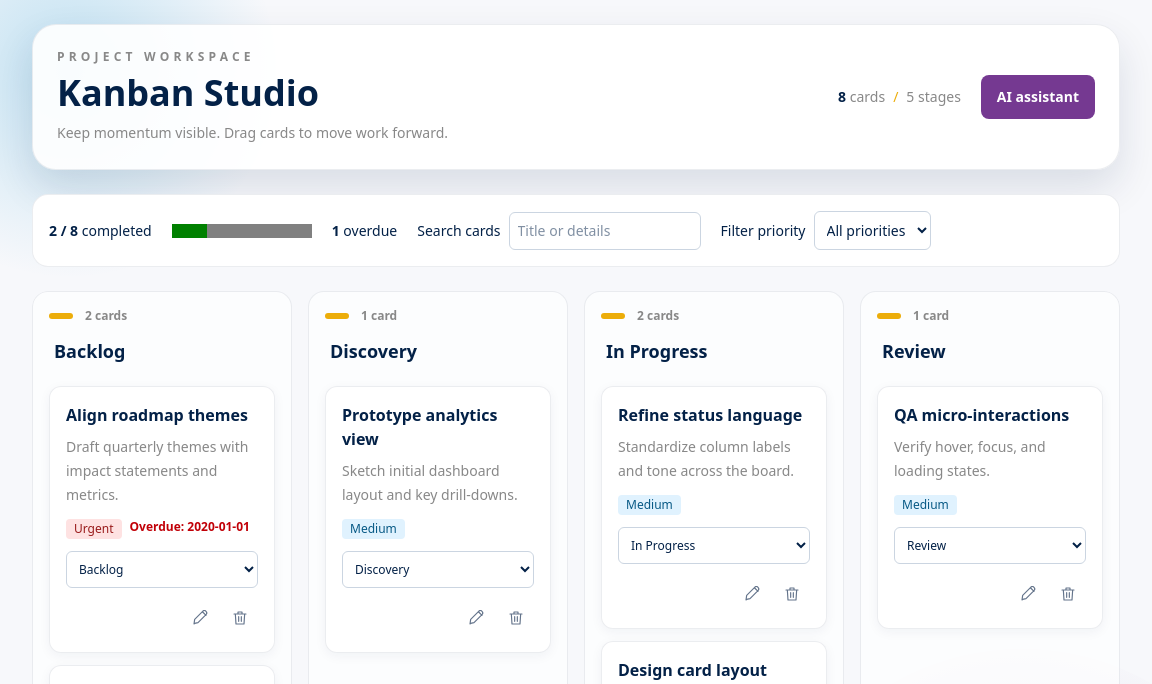
KanbanBoard › filters by title, details and priority without changing the saved board
Check: the heading "Align roadmap themes" is shown, box [66, 403, 258, 427]
Step 1. Type "quarterly" into the search field labelled "Search cards" → (605,230), box [509, 212, 701, 250]
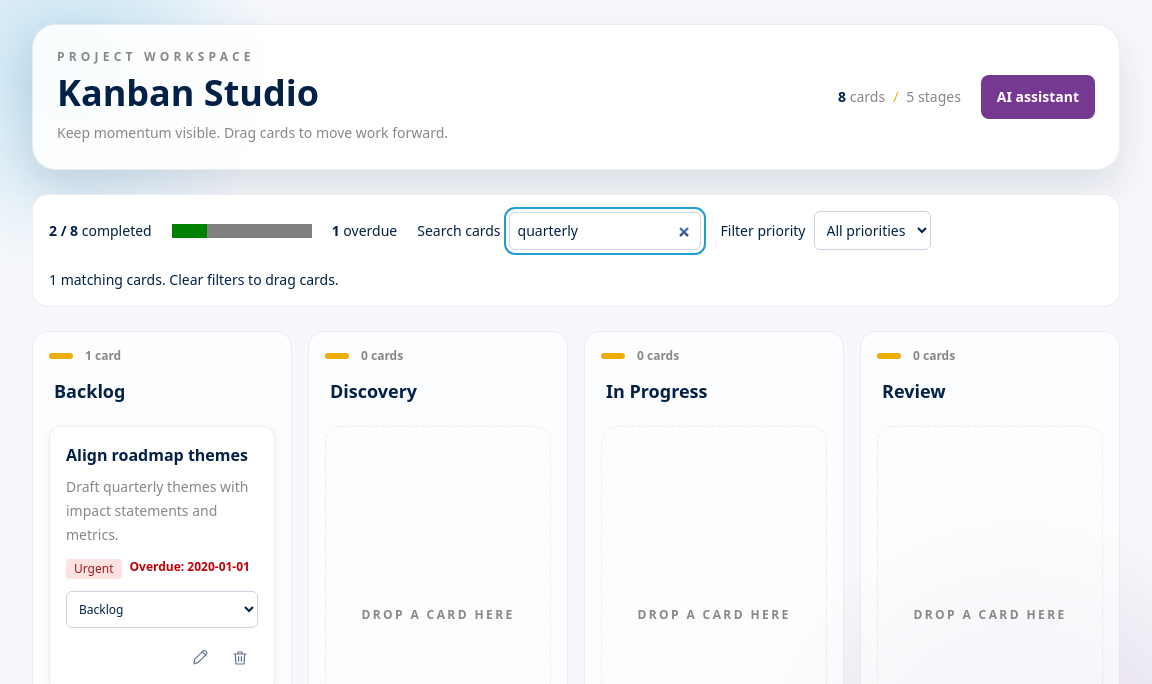
Check: the heading "Align roadmap themes" is shown, box [66, 443, 258, 467]
Step 2. Select "Low" in the dropdown labelled "Filter priority" → (872,230), box [814, 211, 930, 250]
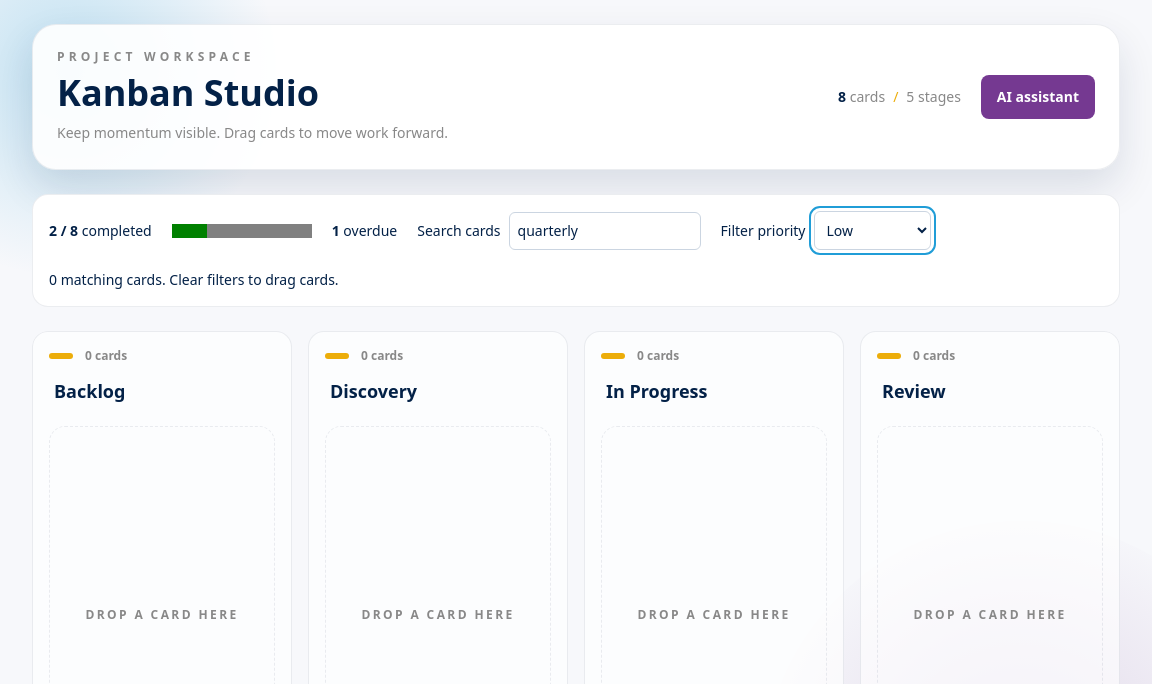
Check: the button "Align roadmap themes" is gone
Step 3. Select "Urgent" in the dropdown labelled "Filter priority" → (872,230), box [814, 211, 930, 250]
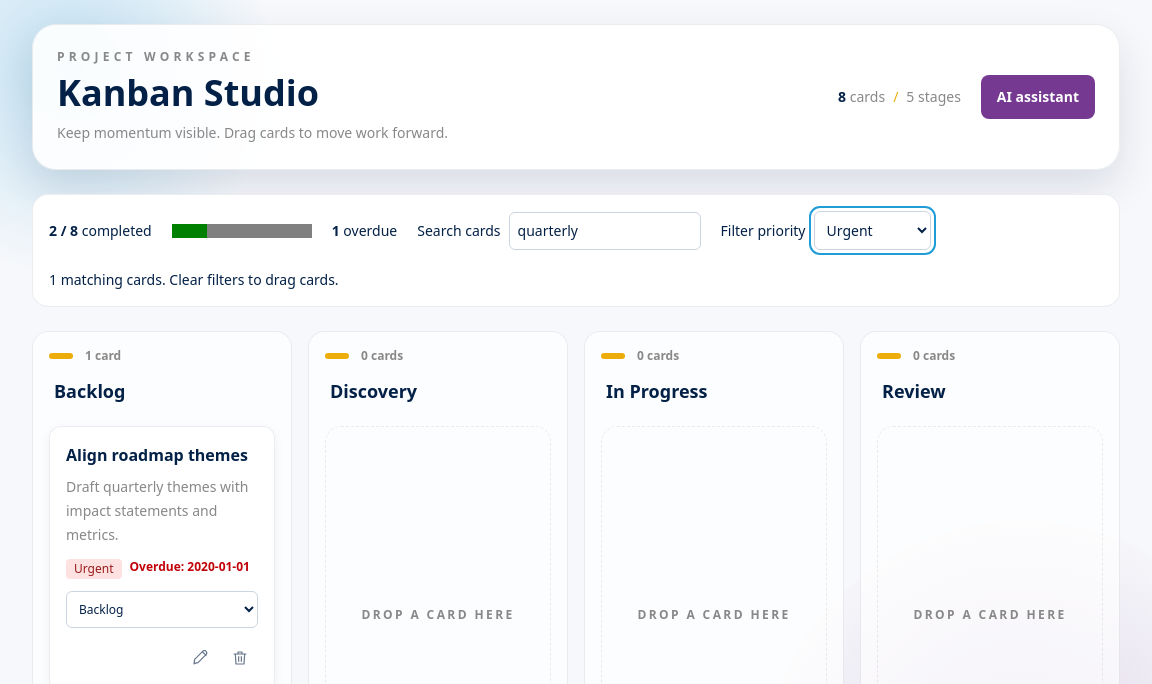
Check: the heading "Align roadmap themes" is shown, box [66, 443, 258, 467]
Check: the text "1 matching cards. Clear filters to drag cards." is shown, box [49, 270, 339, 290]
